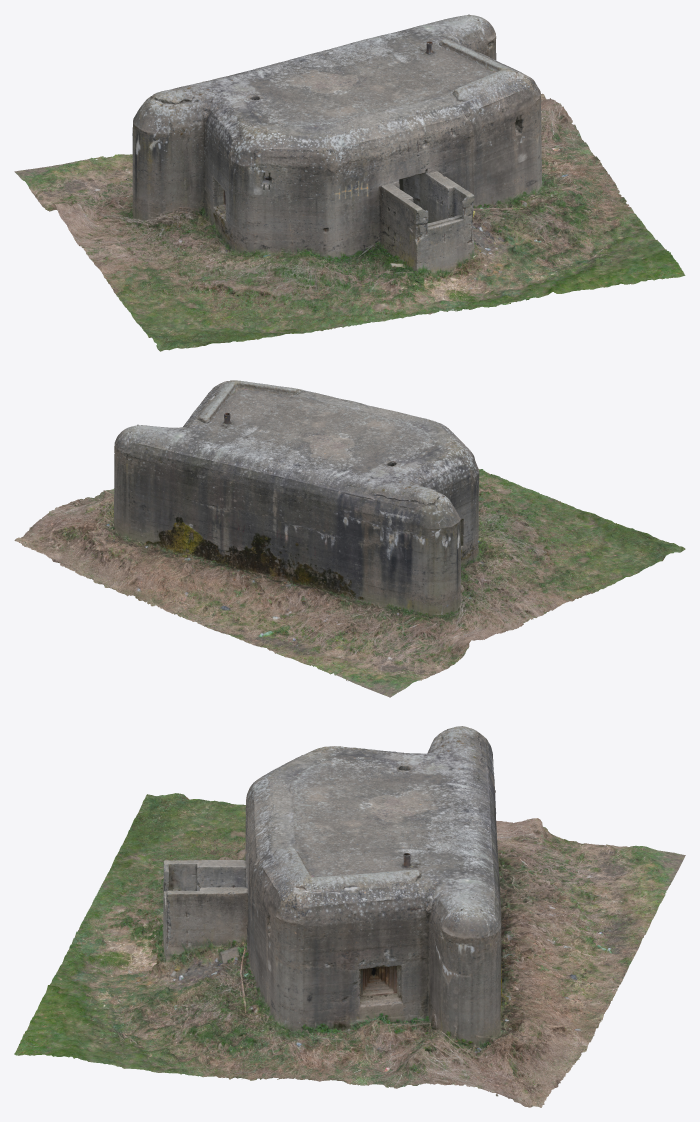
Rendered from bunker_o323a-160_z.glb.
3 views of the same model, one above another, from view 1: azimuth 30°, elevation 25°; view 2: azimuth 150°, elevation 25°; view 3: azimuth 270°, elevation 25° (orthographic). The views are drawn at different scales.
Parts seen in each view (by area): view 1: Model; view 2: Model; view 3: Model.
Boxes of the visible parts, bbox=[...] form: Model: bbox=[14, 14, 685, 351]; Model: bbox=[14, 380, 685, 697]; Model: bbox=[14, 726, 685, 1107].
Size of the model in its own units: 12.67 by 3.32 by 11.51.
3 materials, 2 textured.
